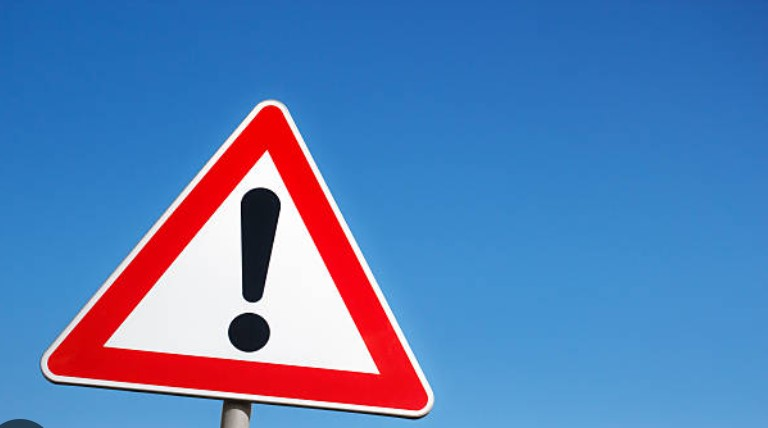Danger: (39, 95, 436, 428)
